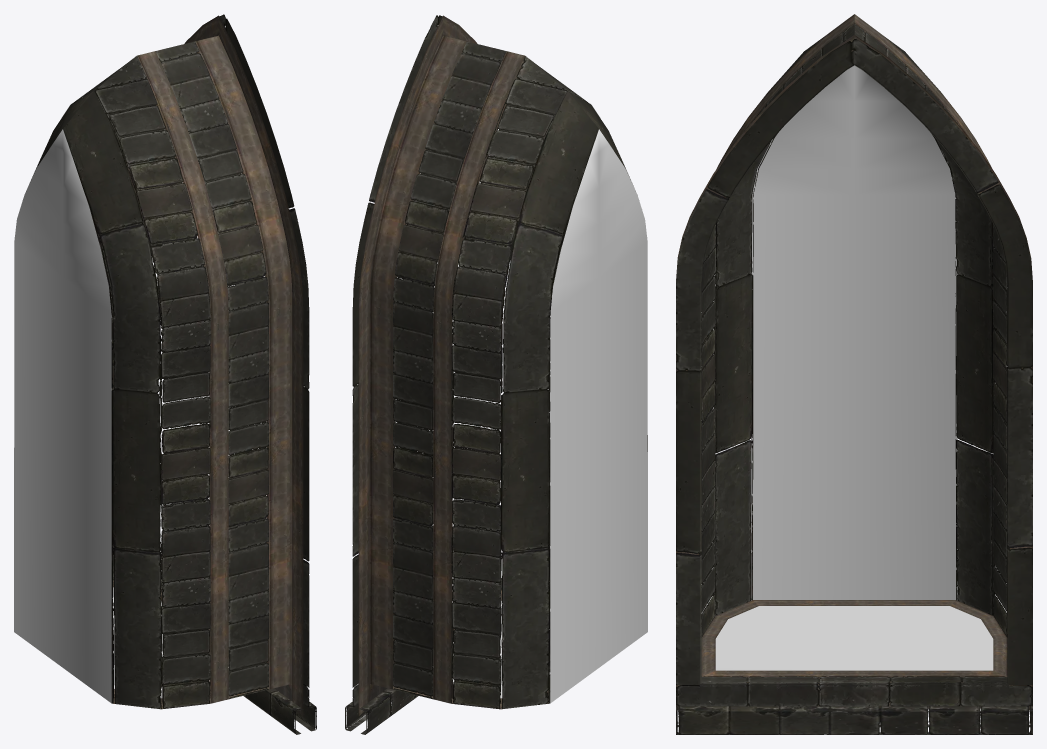
3 views of the same model, side by side, from view 1: azimuth 30°, elevation 25°; view 2: azimuth 150°, elevation 25°; view 3: azimuth 270°, elevation 25° (orthographic). The views are drawn at different scales.
Visible parts, largest first — view 1: SM_Greathall_Window_Insert_06_LOD0; view 2: SM_Greathall_Window_Insert_06_LOD0; view 3: SM_Greathall_Window_Insert_06_LOD0.
Boxes of the visible parts, x1,y1,x2,y2 form: SM_Greathall_Window_Insert_06_LOD0: (14, 14, 316, 734); SM_Greathall_Window_Insert_06_LOD0: (345, 15, 647, 734); SM_Greathall_Window_Insert_06_LOD0: (676, 14, 1032, 734).
Bounding box in the file's own units: 2.12 × 7.84 × 3.66.
Materials: 2 (1 with a texture image).
